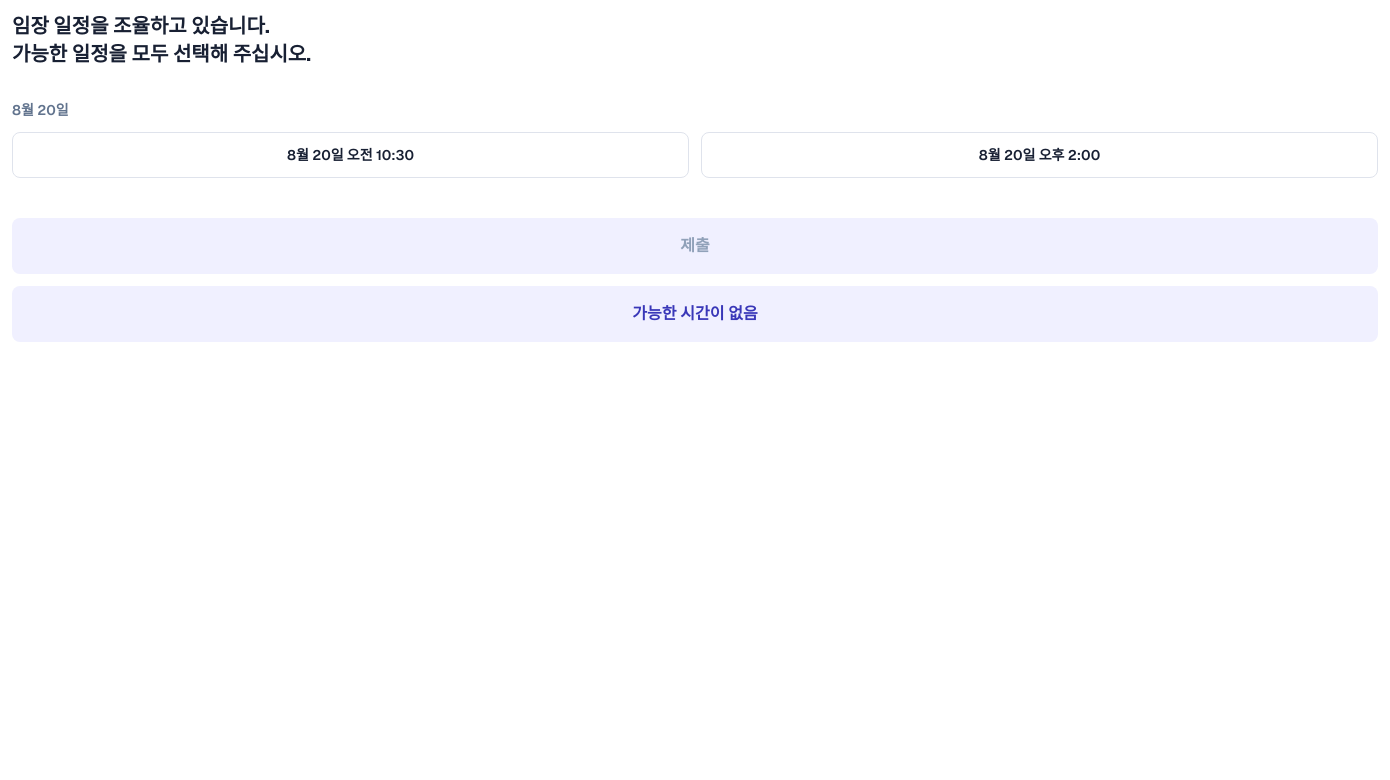
Test case: VisitResponsePage › 가능한 시간을 선택해 제출하면 응답 완료 화면으로 전환된다
Click the button "8월 20일 오전 10:30" at (350, 155), box [12, 132, 689, 178]
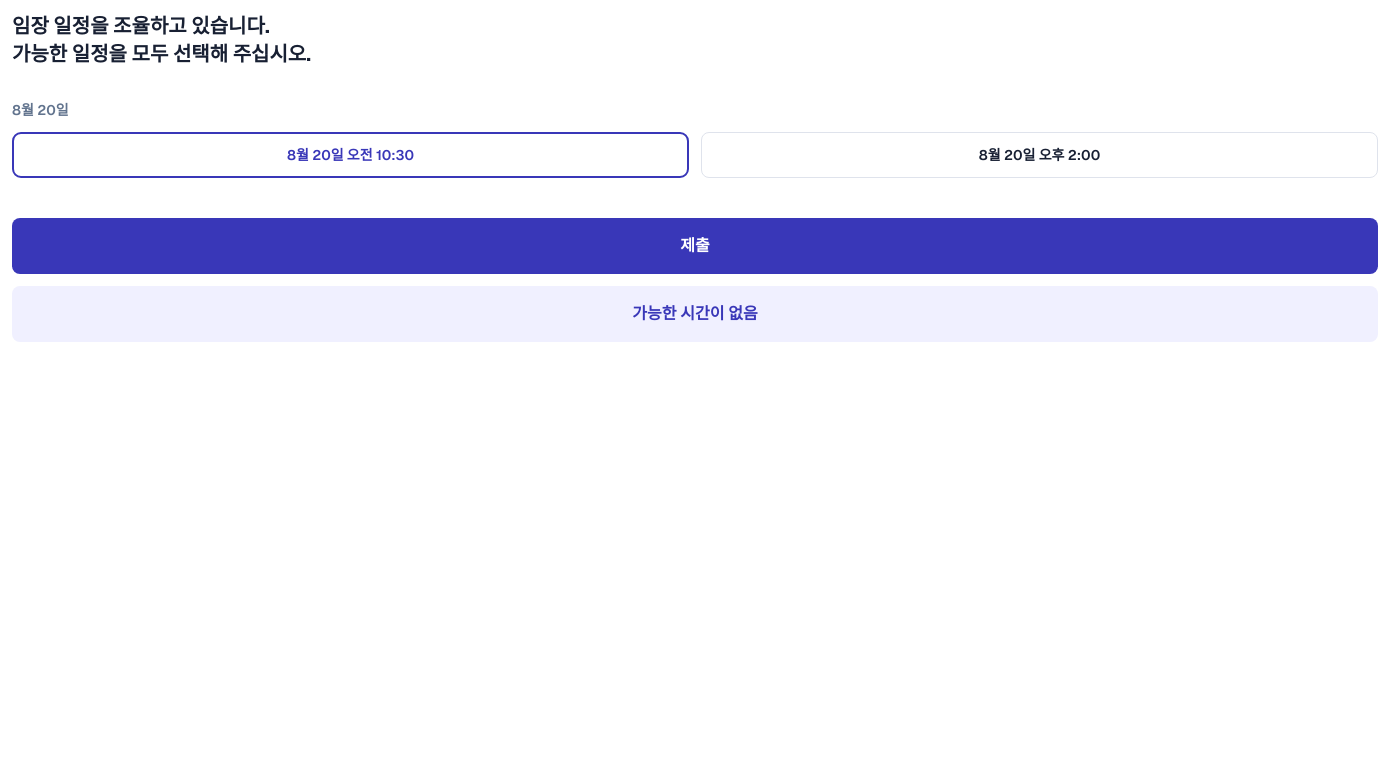
Click the button "제출" at (695, 246), box [12, 218, 1378, 274]
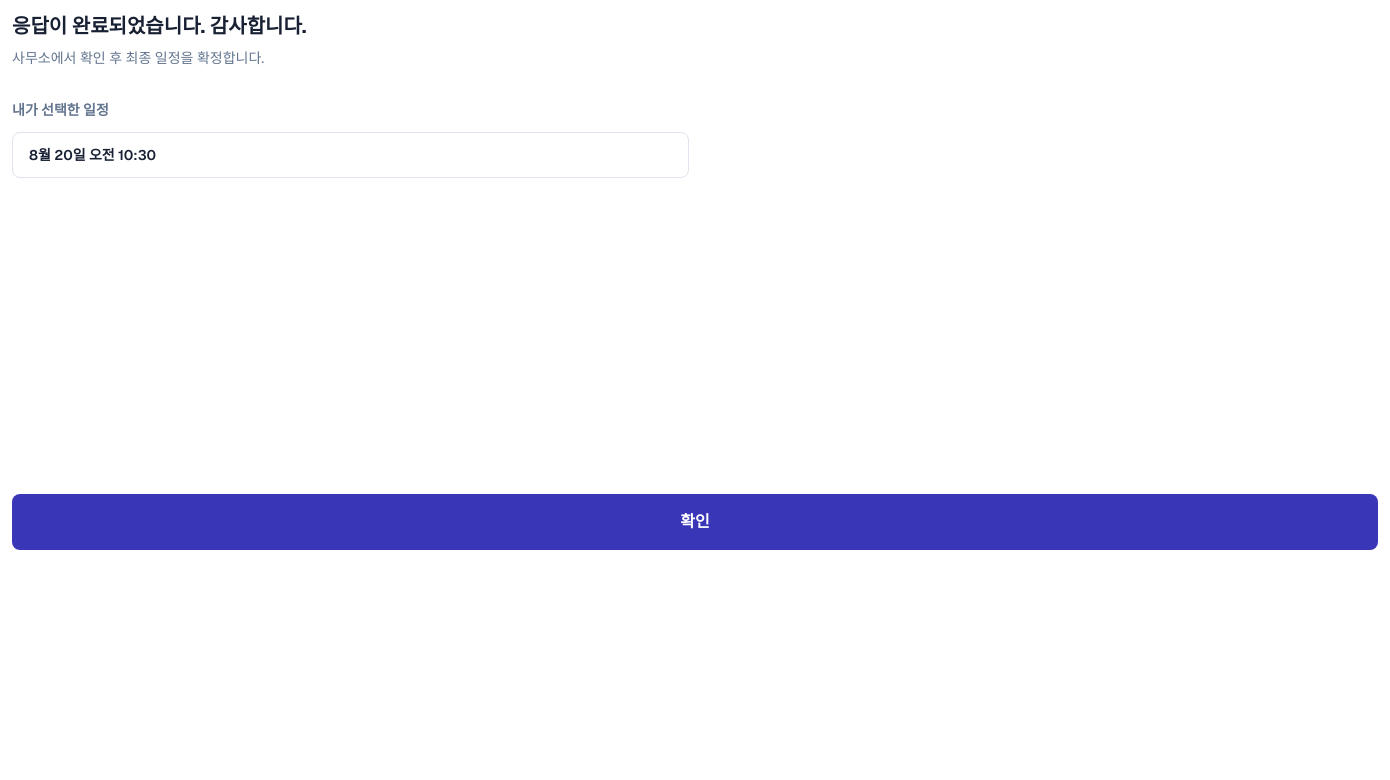
Expected: the heading "응답이 완료되었습니다. 감사합니다." is shown, [12, 13, 307, 39]
